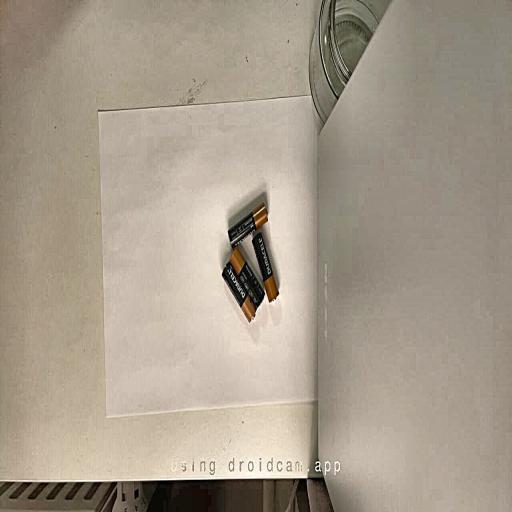DuracellAA: (230, 247, 264, 309), (222, 262, 256, 322), (252, 232, 279, 302), (228, 203, 267, 249)
